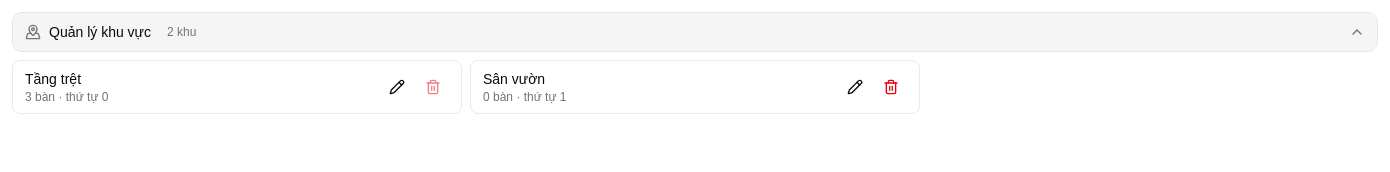
Test case: AreaManagementBar › opens delete dialog for empty area
The image size is (1390, 172).
Click the button named "Xóa khu Sân vườn".
click(891, 87)  # box [875,71,907,103]
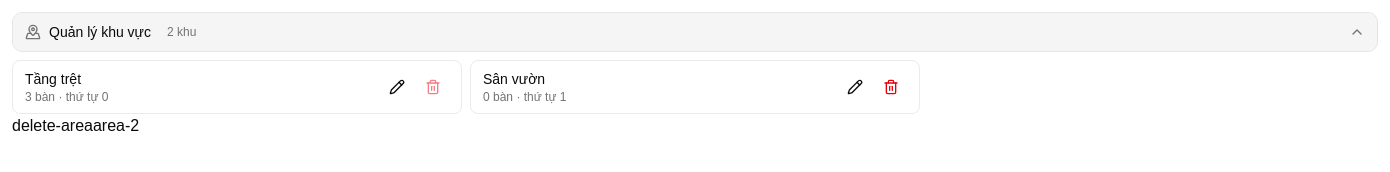
Now the text with test id "open" reads "delete-area", box [12,117,93,134]
Now the text with test id "current-area" reads "area-2", box [93,117,139,134]
